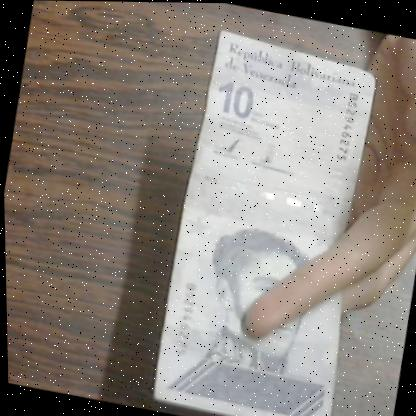ten-front-vef: (140, 28, 391, 416)
